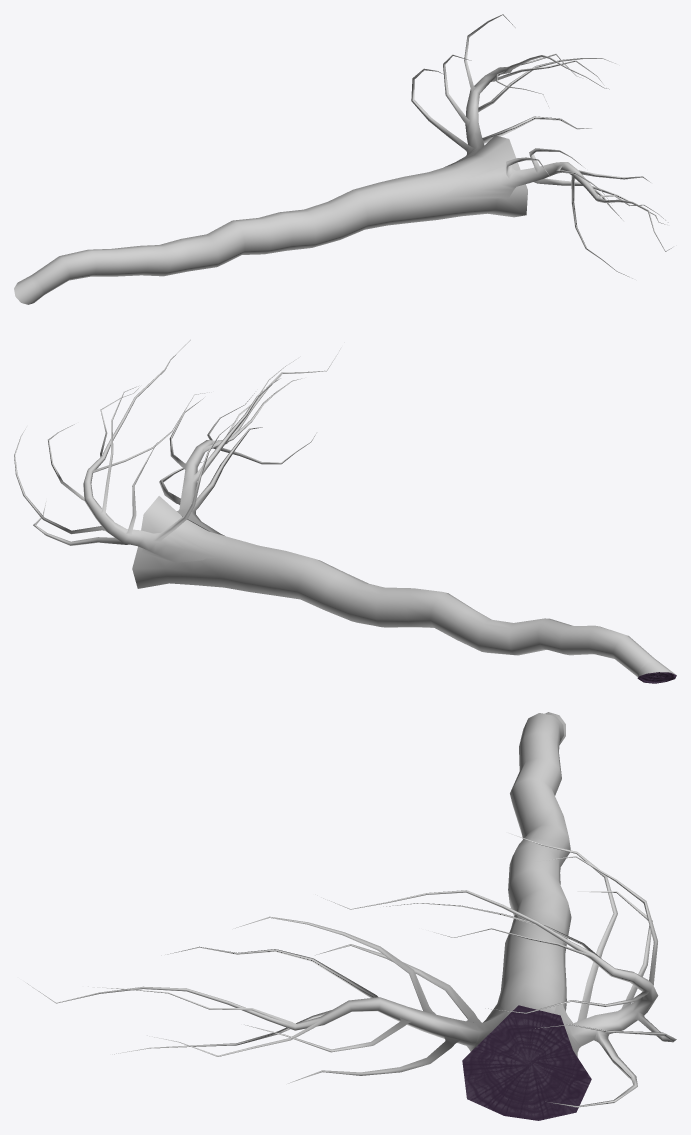
The model's file is souche_terre.fbx.
3 renders of one model, top to bottom at view 1: azimuth 30°, elevation 25°; view 2: azimuth 150°, elevation 25°; view 3: azimuth 270°, elevation 25°, orthographic. The views are drawn at different scales.
Parts seen in each view (by area): view 1: Souche_platforme.001; view 2: Souche_platforme.001; view 3: Souche_platforme.001.
Part boxes in pixels (bbox=[...]): Souche_platforme.001: bbox=[14, 14, 672, 304]; Souche_platforme.001: bbox=[14, 340, 676, 683]; Souche_platforme.001: bbox=[24, 712, 676, 1120].
Bounding box in the file's own units: 32.75 × 9.6 × 21.02.
